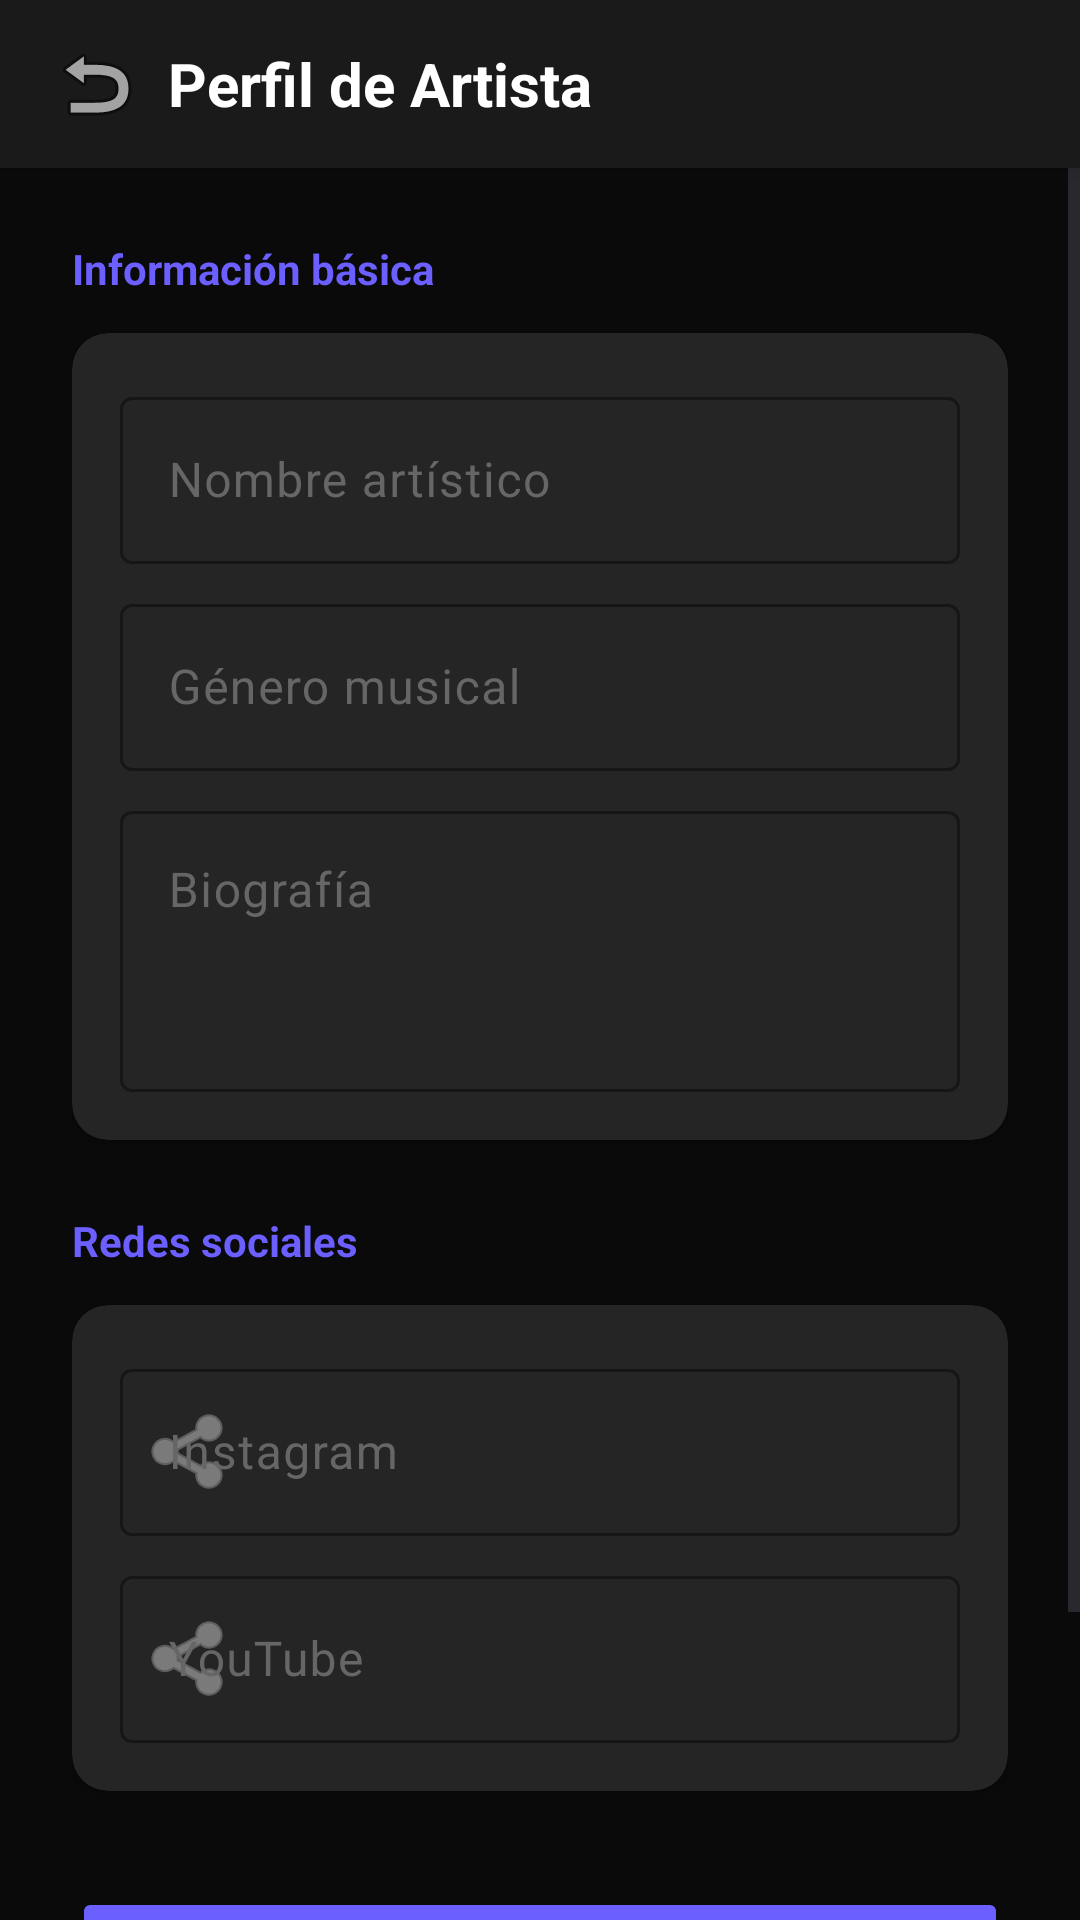

Where icons sit on this 1080 × 1920 app screen, as [left=x1, top=y1, right=x2, bottom=y2]:
Volver: [left=66, top=56, right=129, bottom=113]
